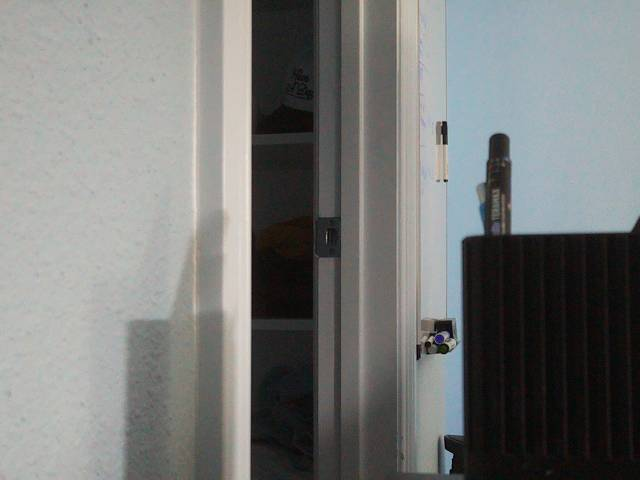crater: (196, 132, 405, 342), (221, 257, 416, 452), (222, 202, 416, 396), (223, 289, 414, 480), (396, 190, 563, 358), (195, 216, 342, 363), (197, 12, 342, 157), (199, 318, 342, 461), (250, 0, 375, 124), (221, 106, 341, 226)
shadow: (367, 435, 408, 480)
